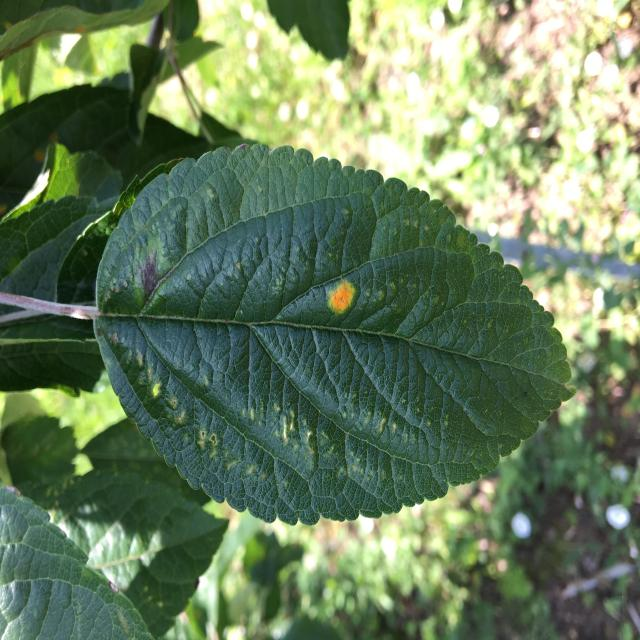Rust: (316, 276, 370, 330)
scab: (132, 242, 171, 318)
